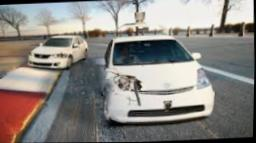Bonnet: (112, 61, 204, 92)
Bumper: (110, 84, 215, 123)
Light: (115, 76, 138, 90), (54, 52, 69, 60)
